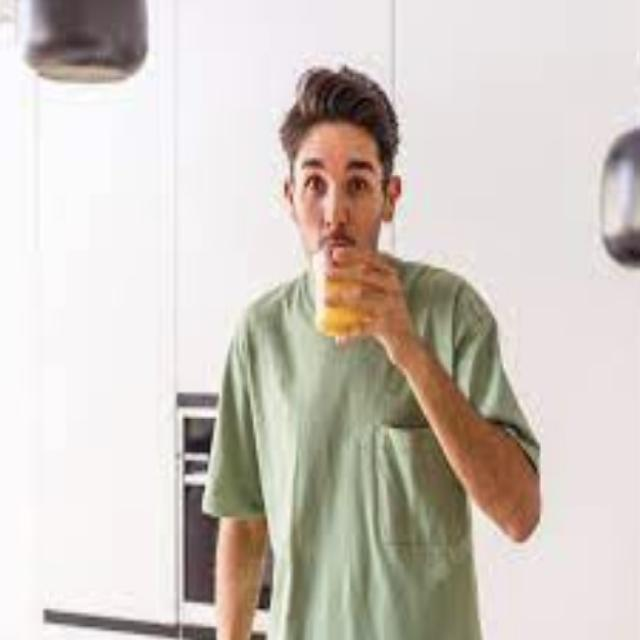eating-person: (197, 55, 548, 640)
